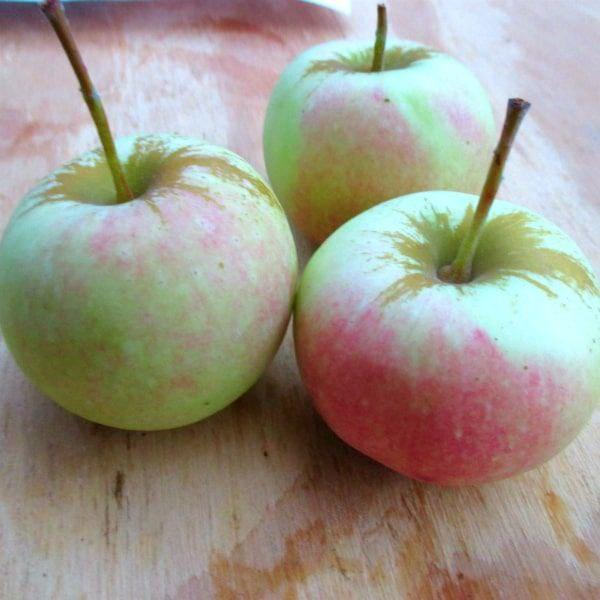Apple: (0, 133, 299, 435), (295, 189, 600, 484)
